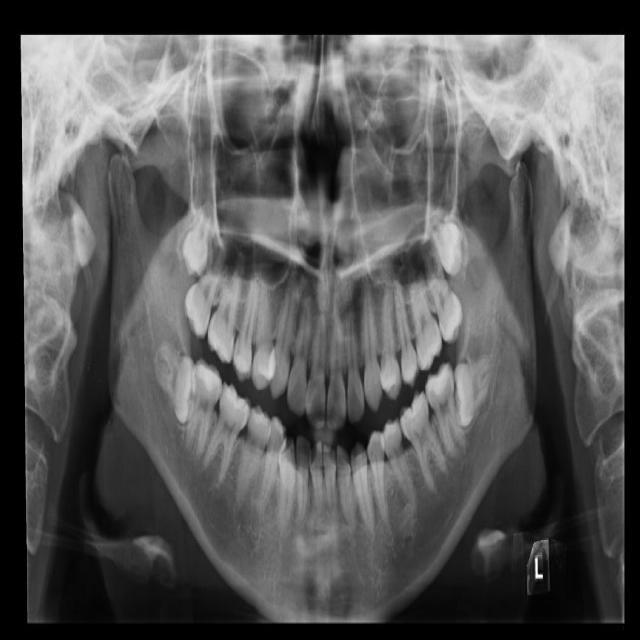3M ESPE Implant: (180, 199, 213, 277)
73: (592, 570, 609, 580)
BioHorizons Implant: (419, 248, 471, 344)
BioLife Implant: (426, 211, 472, 278)
Biomet 3i Implant: (454, 352, 495, 429)
Blue Sky Bio Implant: (422, 362, 467, 458)
Caries: (176, 244, 228, 339)
Implant: (179, 358, 226, 462)
Keystone Dental Implant: (151, 342, 200, 426)
